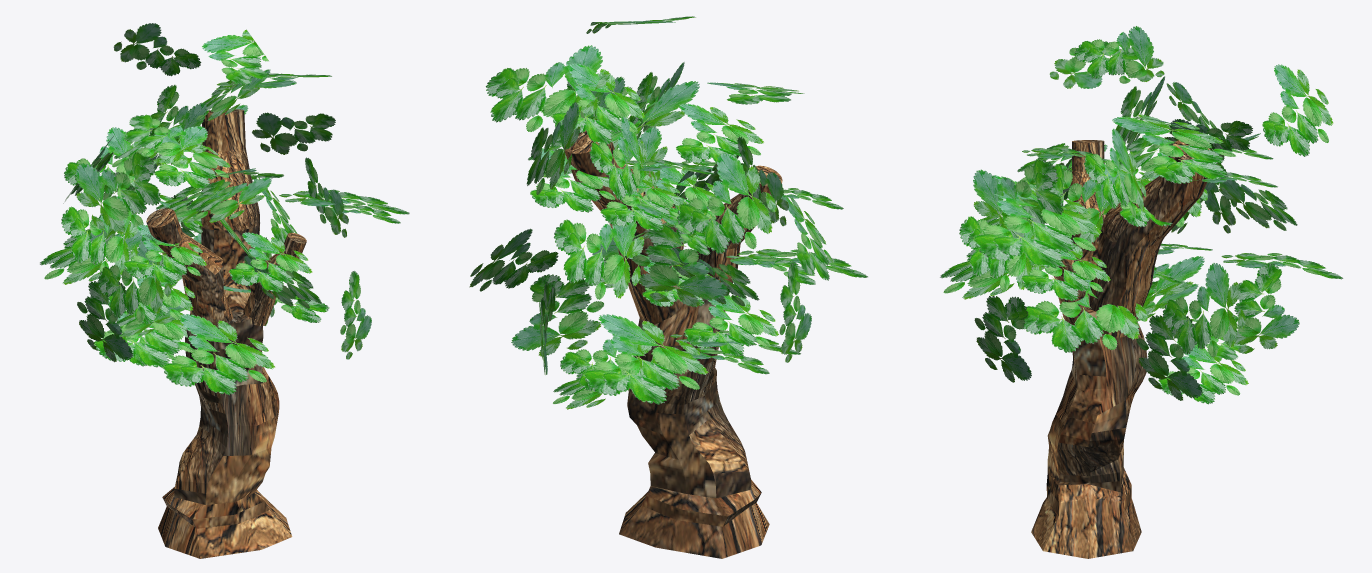
Rendered from Tree2.glb.
The picture shows the model from 3 angles, left to right: view 1: azimuth 30°, elevation 25°; view 2: azimuth 150°, elevation 25°; view 3: azimuth 270°, elevation 25°; orthographic projection. The views are drawn at different scales.
Parts seen in each view (by area): view 1: Cube.001; view 2: Cube.001; view 3: Cube.001.
Boxes of the visible parts, left/top/right/bottom form: Cube.001: left=40, top=23, right=409, bottom=558; Cube.001: left=469, top=16, right=867, bottom=558; Cube.001: left=940, top=26, right=1343, bottom=558.
Bounding box in the file's own units: 3 × 4.29 × 3.43.
2 materials, 2 textured.
